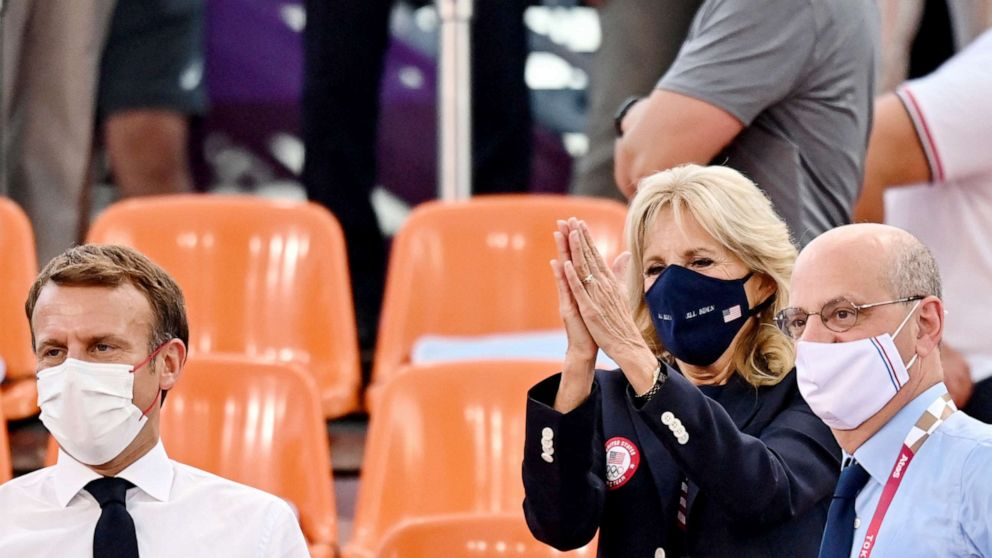with_mask: (789, 284, 897, 413), (37, 325, 145, 437), (644, 251, 731, 340)
